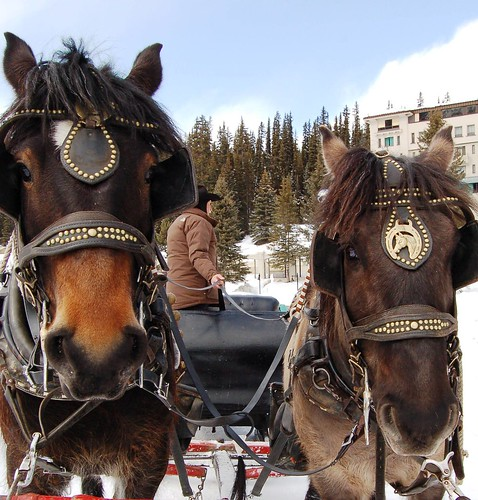equine: (1, 25, 205, 500), (277, 108, 478, 500)
human: (161, 163, 235, 331)
